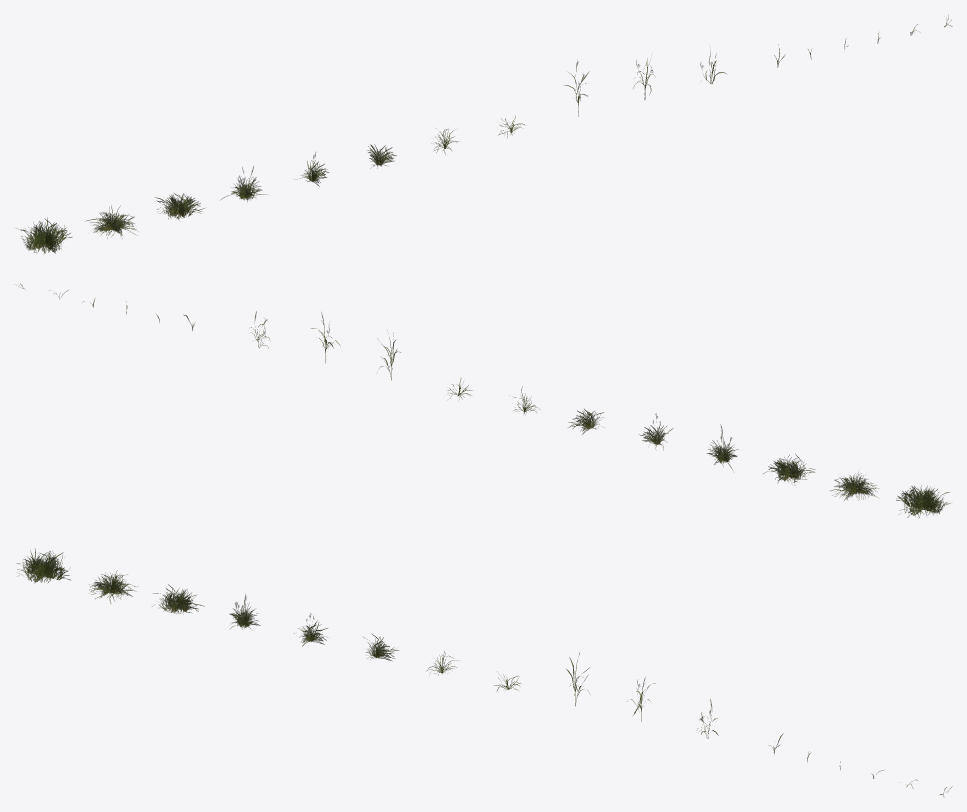
The model's file is grass_medium_01.glb.
3 renders of one model, top to bottom at view 1: azimuth 30°, elevation 25°; view 2: azimuth 150°, elevation 25°; view 3: azimuth 330°, elevation 25°, orthographic.
Parts seen in each view (by area): view 1: grass_medium_01_geonodes_large_a_LOD1, grass_medium_01_geonodes_large_b_LOD1, grass_medium_01_geonodes_large_c_LOD1; view 2: grass_medium_01_geonodes_large_a_LOD1, grass_medium_01_geonodes_large_c_LOD1, grass_medium_01_geonodes_large_b_LOD1, grass_medium_01_large_a_LOD1; view 3: grass_medium_01_geonodes_large_a_LOD1, grass_medium_01_geonodes_large_c_LOD1, grass_medium_01_geonodes_large_b_LOD1.
Part boxes in pixels (x1,y1,x2,y2): grass_medium_01_geonodes_large_a_LOD1: (16,218,72,253); grass_medium_01_geonodes_large_b_LOD1: (86,205,136,238); grass_medium_01_geonodes_large_c_LOD1: (155,193,204,219); grass_medium_01_geonodes_large_a_LOD1: (896,486,950,517); grass_medium_01_geonodes_large_c_LOD1: (763,454,814,485); grass_medium_01_geonodes_large_b_LOD1: (830,472,879,500); grass_medium_01_large_a_LOD1: (897,486,943,514); grass_medium_01_geonodes_large_a_LOD1: (17,548,70,583); grass_medium_01_geonodes_large_c_LOD1: (152,584,203,614); grass_medium_01_geonodes_large_b_LOD1: (90,570,138,603).
Size of the model in its own units: 5.62 by 0.3399 by 0.3317.
1 material, 1 textured.
